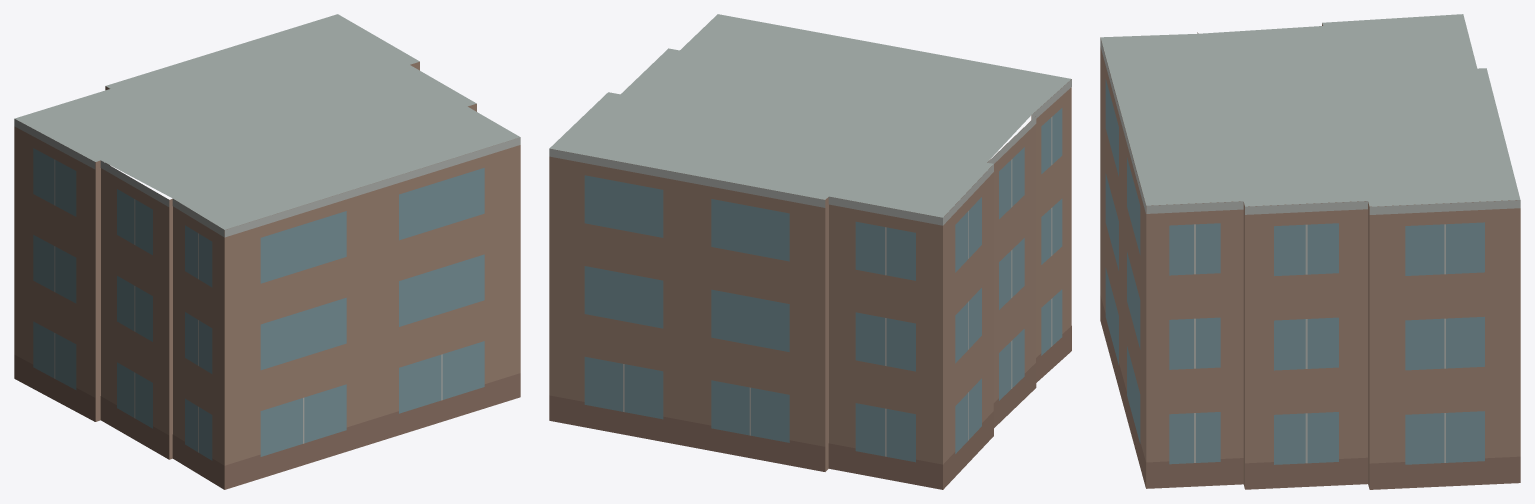
The model's file is survey-upis-32492559.glb.
3 renders of one model, left to right at view 1: azimuth 30°, elevation 25°; view 2: azimuth 150°, elevation 25°; view 3: azimuth 270°, elevation 25°, orthographic. The views are drawn at different scales.
Visible parts, largest first — view 1: survey-upis-32492559.tmp; view 2: survey-upis-32492559.tmp; view 3: survey-upis-32492559.tmp.
Boxes of the visible parts, left/top/right/bottom form: survey-upis-32492559.tmp: left=14, top=14, right=520, bottom=489; survey-upis-32492559.tmp: left=549, top=14, right=1071, bottom=489; survey-upis-32492559.tmp: left=1100, top=14, right=1520, bottom=489.
Bounding box in the file's own units: 12.13 × 8.3 × 11.17.
